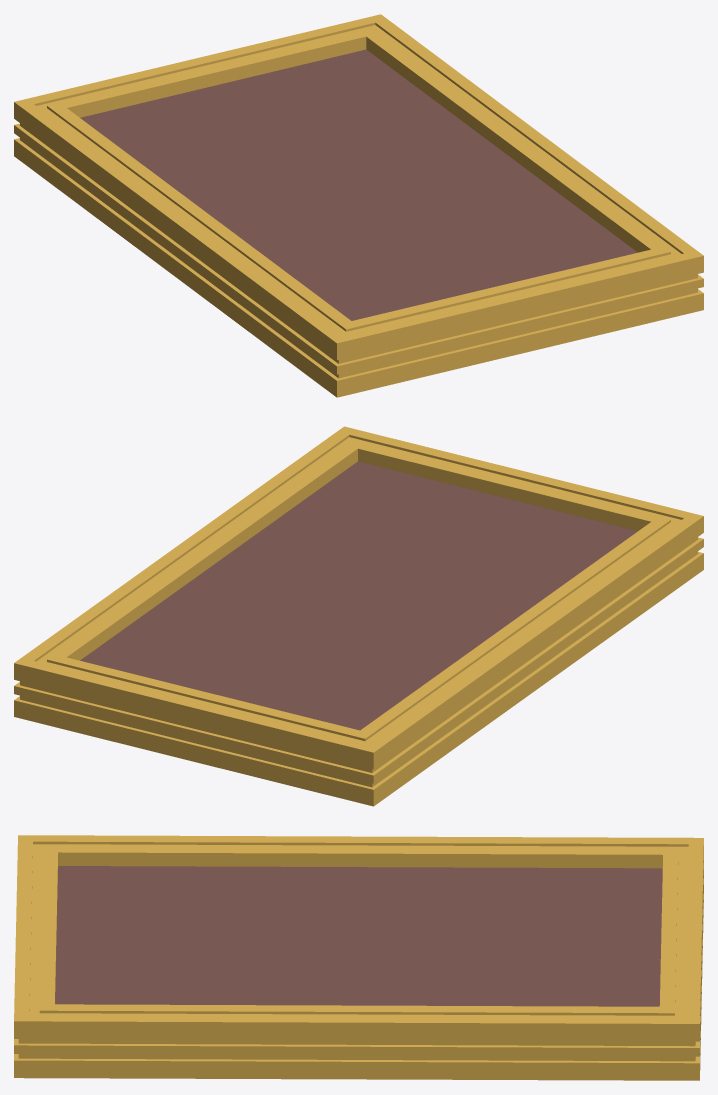
Rendered from FlowerBed.fbx.
3 renders of one model, top to bottom at view 1: azimuth 30°, elevation 25°; view 2: azimuth 150°, elevation 25°; view 3: azimuth 270°, elevation 25°, orthographic. The views are drawn at different scales.
Visible parts, largest first — view 1: Flowerbed.001; view 2: Flowerbed.001; view 3: Flowerbed.001.
Part boxes in pixels (bbox=[...]): Flowerbed.001: bbox=[14, 14, 703, 397]; Flowerbed.001: bbox=[14, 426, 703, 806]; Flowerbed.001: bbox=[14, 835, 703, 1080].
Size of the model in its own units: 4.51 by 6.97 by 0.6328.
